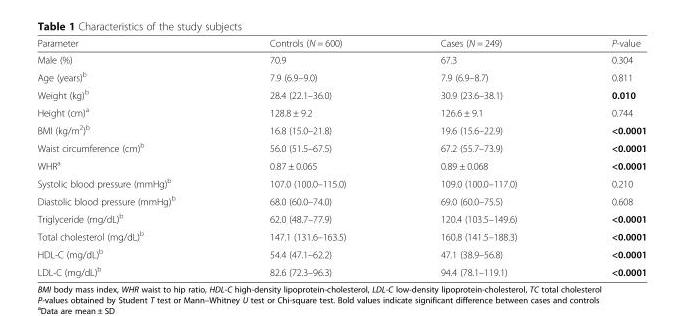table: (36, 37, 646, 277)
table column: (36, 37, 221, 277), (221, 37, 392, 277), (392, 37, 563, 277), (563, 37, 646, 277)
table column header: (36, 37, 646, 51)
table row: (36, 67, 646, 85), (36, 102, 646, 120), (36, 120, 646, 138), (36, 155, 646, 173), (36, 173, 646, 191), (36, 191, 646, 209), (36, 226, 646, 244), (36, 244, 646, 262), (36, 85, 646, 102), (36, 138, 646, 155), (36, 209, 646, 226), (36, 51, 646, 67), (36, 262, 646, 277), (36, 37, 646, 51)
